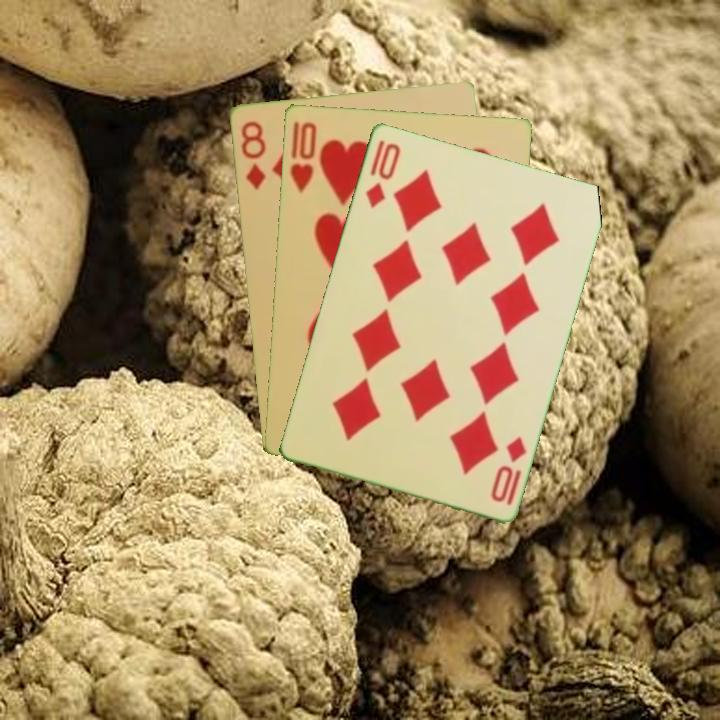10d: (361, 136, 403, 211), (487, 433, 529, 508)
10h: (286, 117, 319, 195)
8d: (237, 117, 268, 192)
